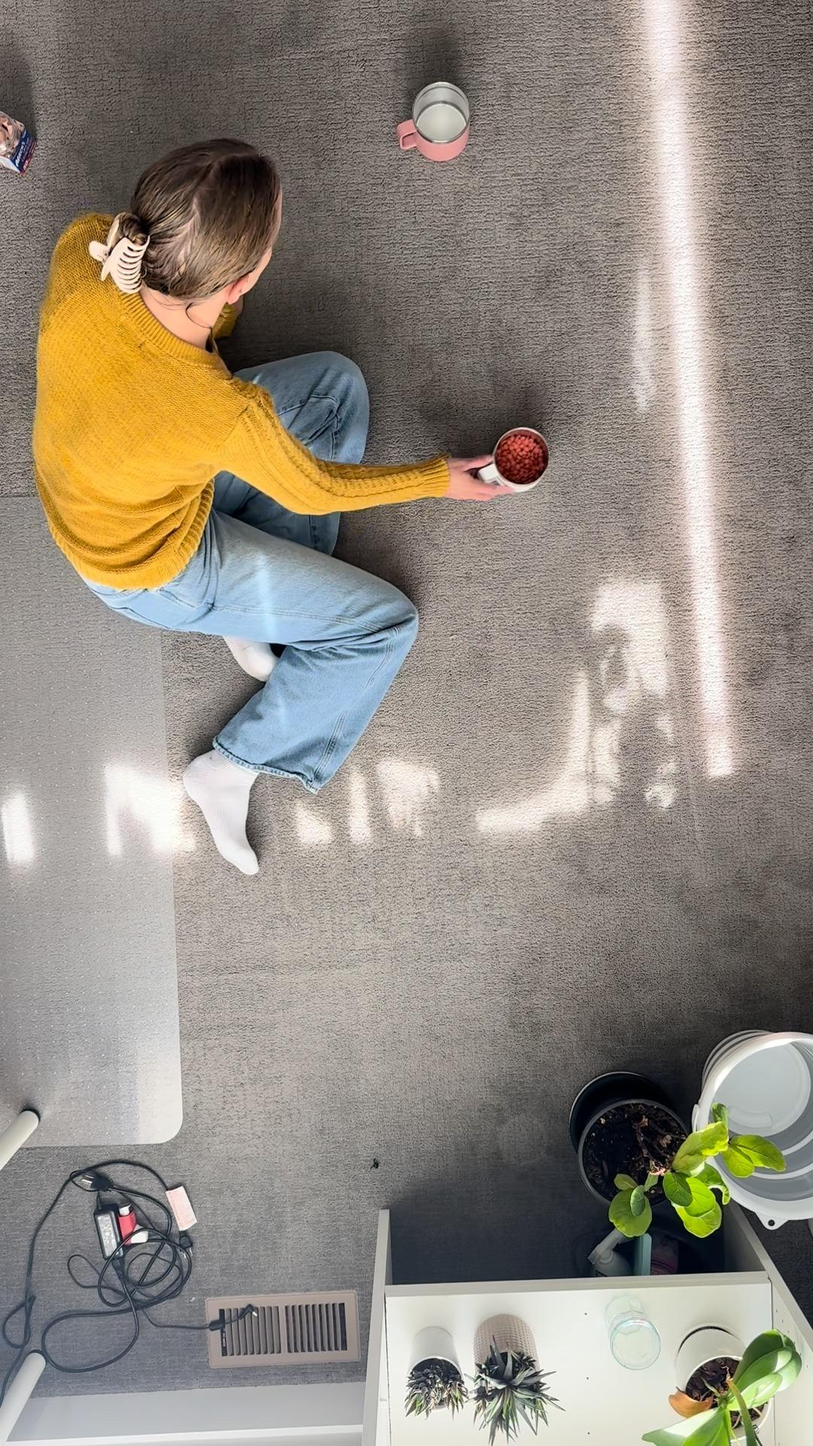IBC: (469, 412, 568, 501), (391, 68, 483, 162)
